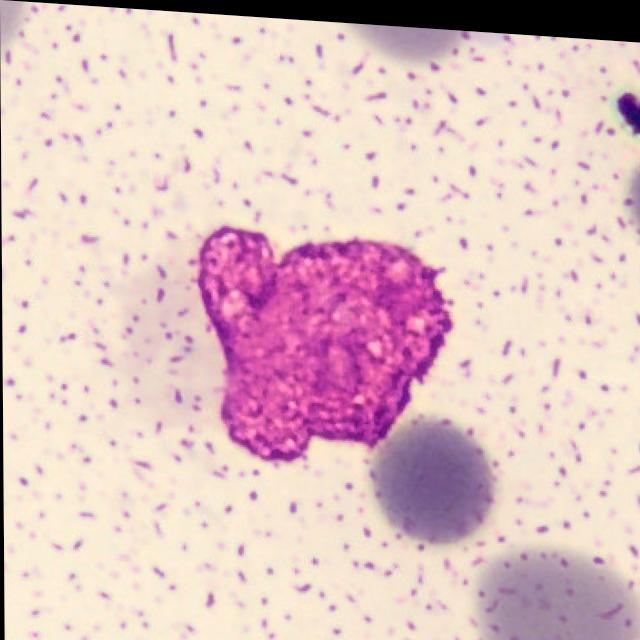Restos celulares: (194, 223, 454, 459)
